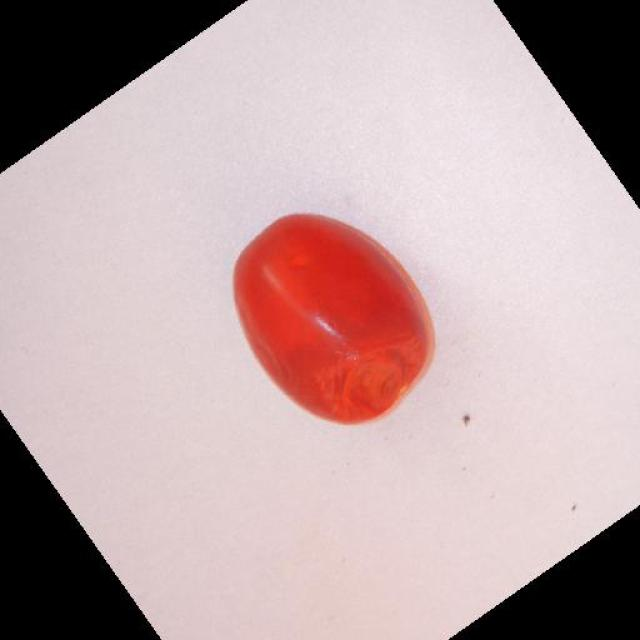Stale_tomato: (214, 188, 433, 431)
